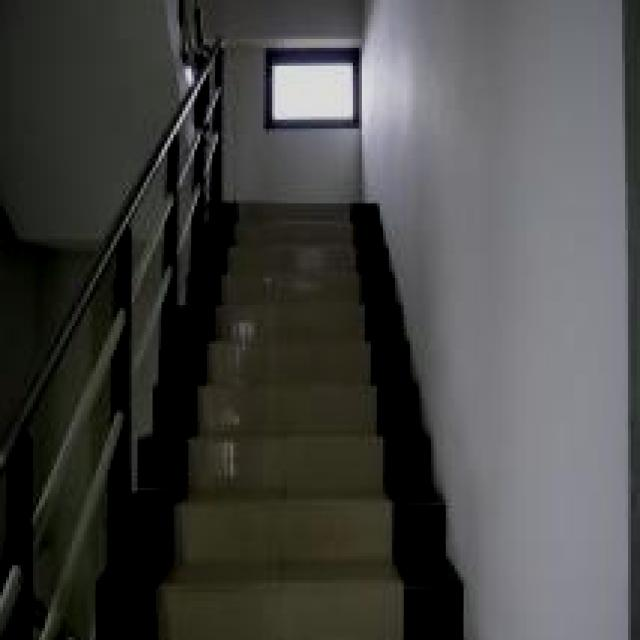upstair: (195, 219, 420, 640)
